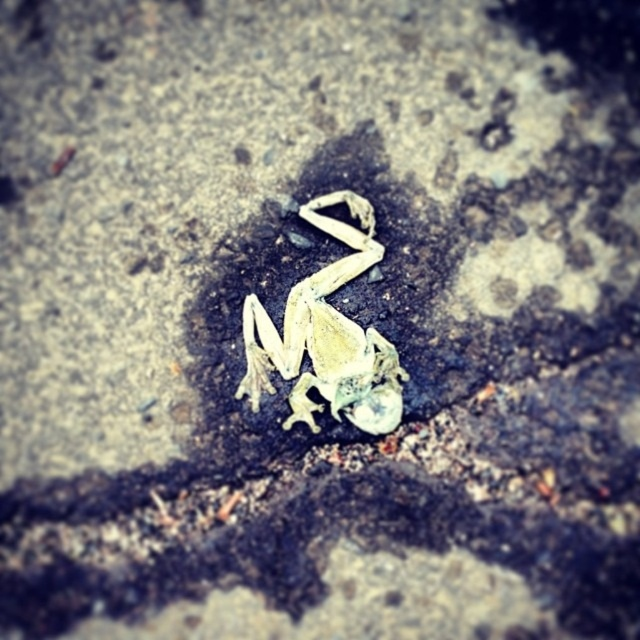Frog: (226, 190, 423, 431)
